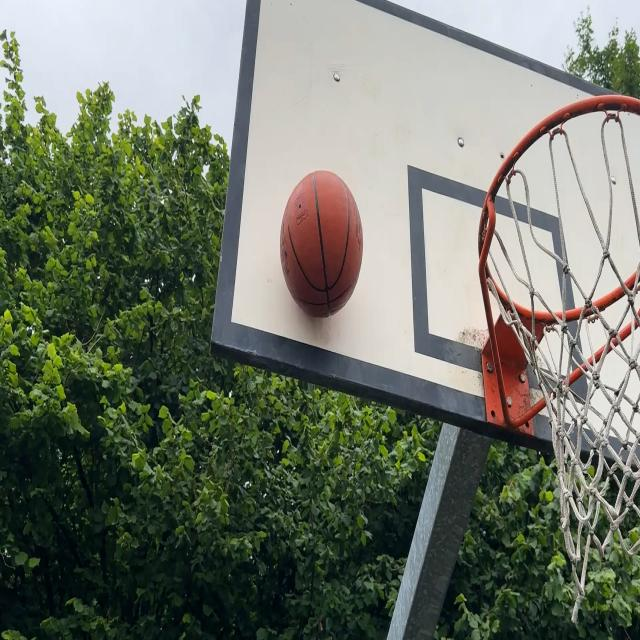rebound_hit: (281, 167, 368, 327)
